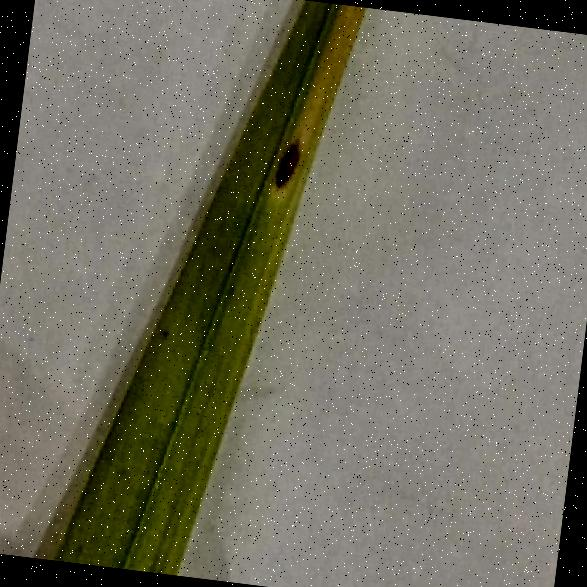Leaf_smut: (242, 117, 312, 204)
